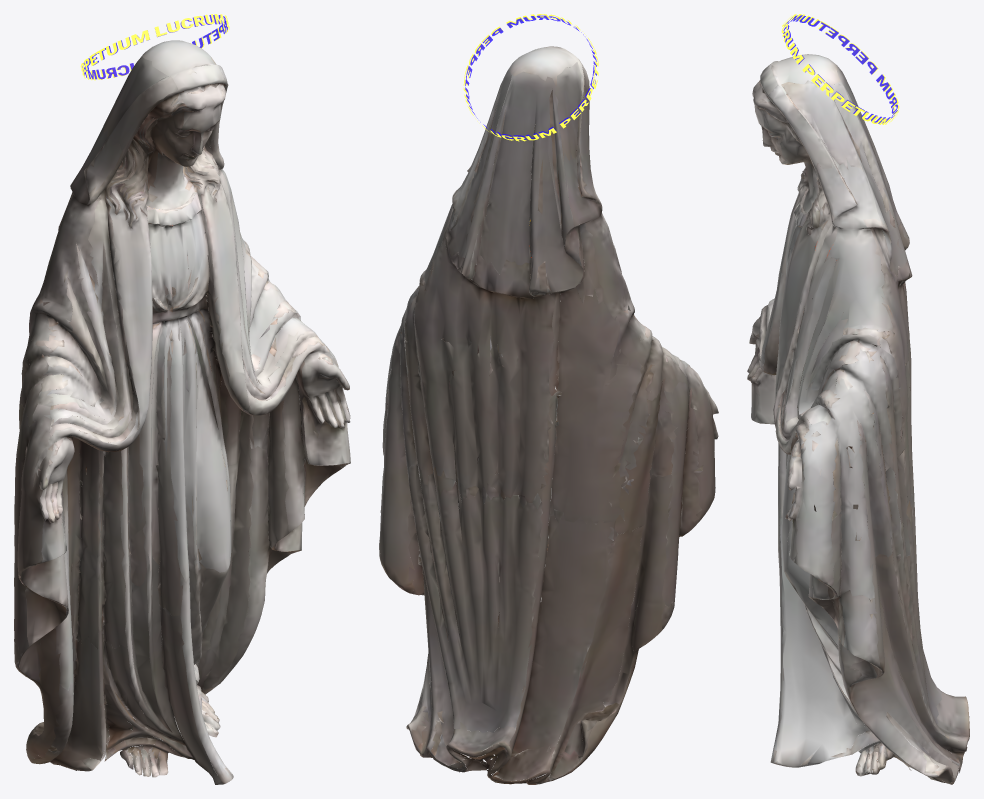
The model's file is CyberpunkMaryHeartRed2.glb.
3 views of the same model, side by side, from view 1: azimuth 30°, elevation 25°; view 2: azimuth 150°, elevation 25°; view 3: azimuth 270°, elevation 25° (orthographic). The views are drawn at different scales.
Parts seen in each view (by area): view 1: statue, HaloText1, HaloText2; view 2: statue, HaloText1, HaloText2; view 3: statue, HaloText1, HaloText2.
Part boxes in pixels (x1,y1,x2,y2): statue: (14, 40, 350, 784); HaloText1: (80, 14, 229, 80); HaloText2: (82, 15, 227, 79); statue: (379, 46, 718, 784); HaloText1: (463, 14, 598, 141); HaloText2: (465, 15, 596, 139); statue: (747, 54, 969, 784); HaloText1: (781, 14, 899, 124); HaloText2: (783, 15, 897, 123).
Size of the model in its own units: 0.4205 by 0.9118 by 0.2491.
Materials: 8 (2 with a texture image).
